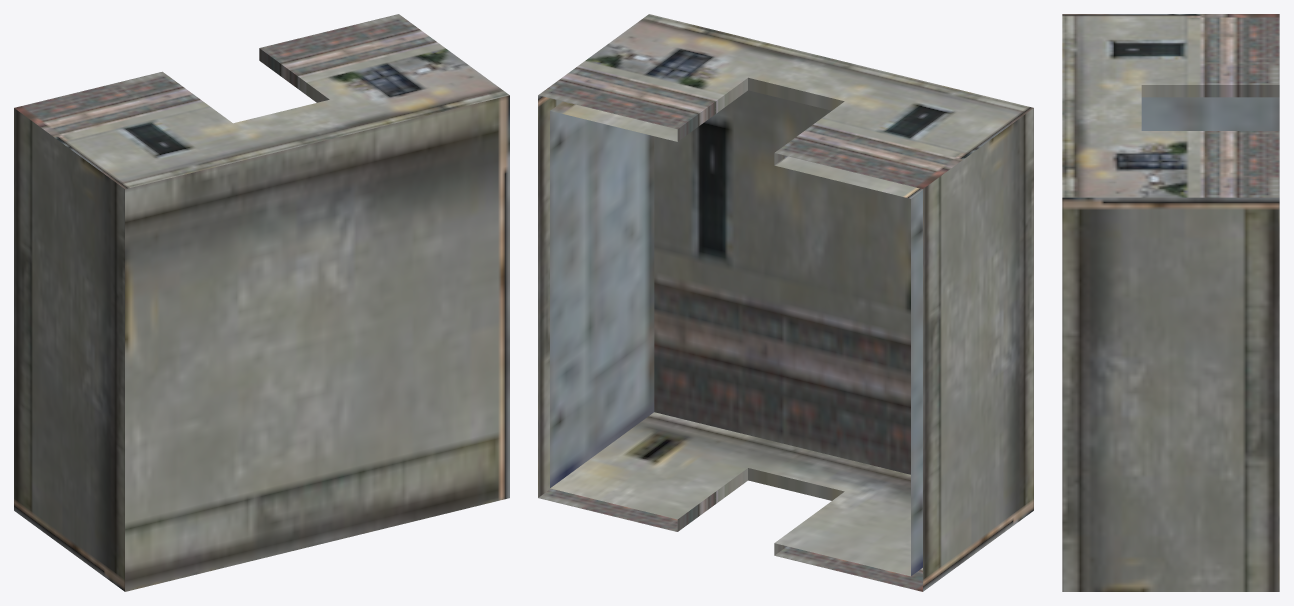
The model's file is 4x4NS_pottedplants_wtf.obj.
The picture shows the model from 3 angles, left to right: view 1: azimuth 30°, elevation 25°; view 2: azimuth 150°, elevation 25°; view 3: azimuth 270°, elevation 25°; orthographic projection. The views are drawn at different scales.
Visible parts, largest first — view 1: group3; view 2: group3; view 3: group3.
Boxes of the visible parts, x1=… form: group3: x1=14, y1=14, x2=509, y2=591; group3: x1=538, y1=14, x2=1033, y2=591; group3: x1=1062, y1=14, x2=1279, y2=591.
Size of the model in its own units: 660 by 660 by 330.
